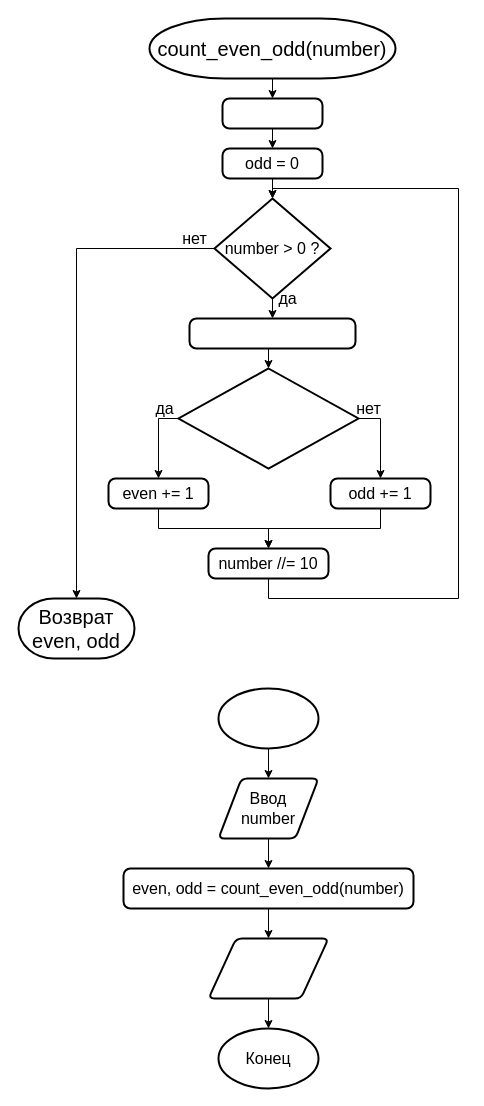
The diagram is 484 pixels wide and 1106 high, and some of its shapes have lost their labels. The shapes that lost their labels are listed below. From the top down, each one's centre as x and y in pixels, then its label:
(x=272, y=113): even = 0
(x=272, y=333): digit = number % 10
(x=268, y=418): ((digit % 2) == 0) ?
(x=268, y=718): Начало
(x=268, y=968): Вывод even, odd
